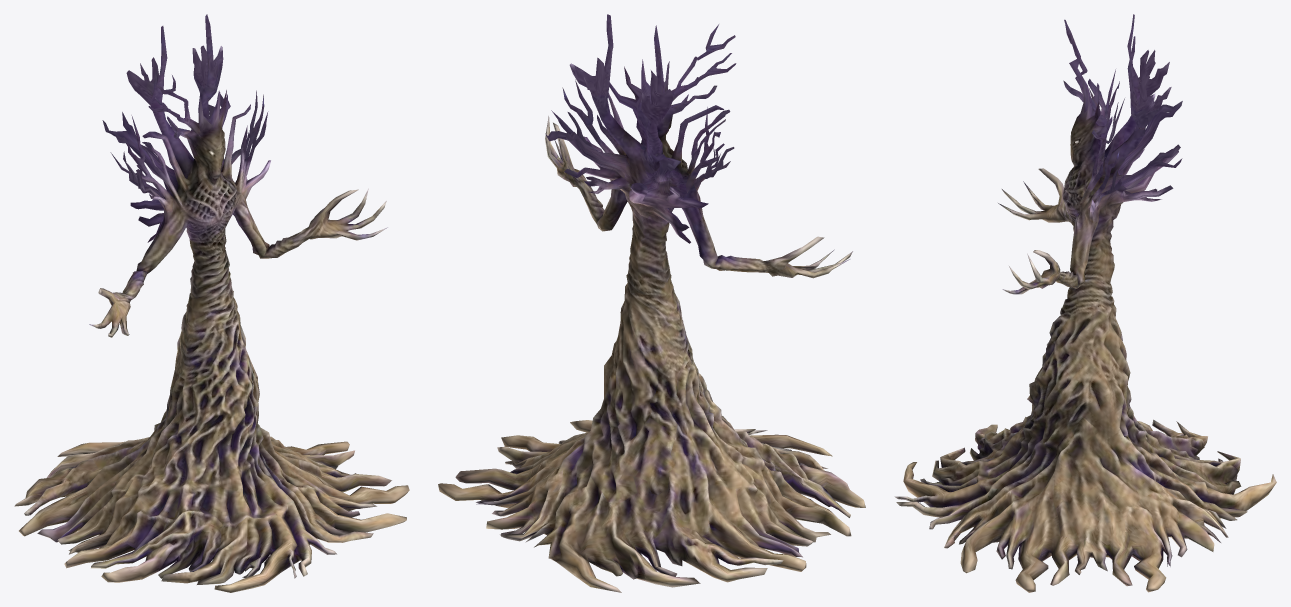
Rendered from Duskwalker - MZ4250.glb.
3 views of the same model, side by side, from view 1: azimuth 30°, elevation 25°; view 2: azimuth 150°, elevation 25°; view 3: azimuth 270°, elevation 25° (orthographic). The views are drawn at different scales.
Parts seen in each view (by area): view 1: Duskwalker.001; view 2: Duskwalker.001; view 3: Duskwalker.001.
Boxes of the visible parts, x1,y1,x2,y2 form: Duskwalker.001: (14, 14, 409, 592); Duskwalker.001: (438, 14, 865, 592); Duskwalker.001: (894, 14, 1276, 592).
Bounding box in the file's own units: 182 × 247 × 176.
Materials: 1 (1 with a texture image).
